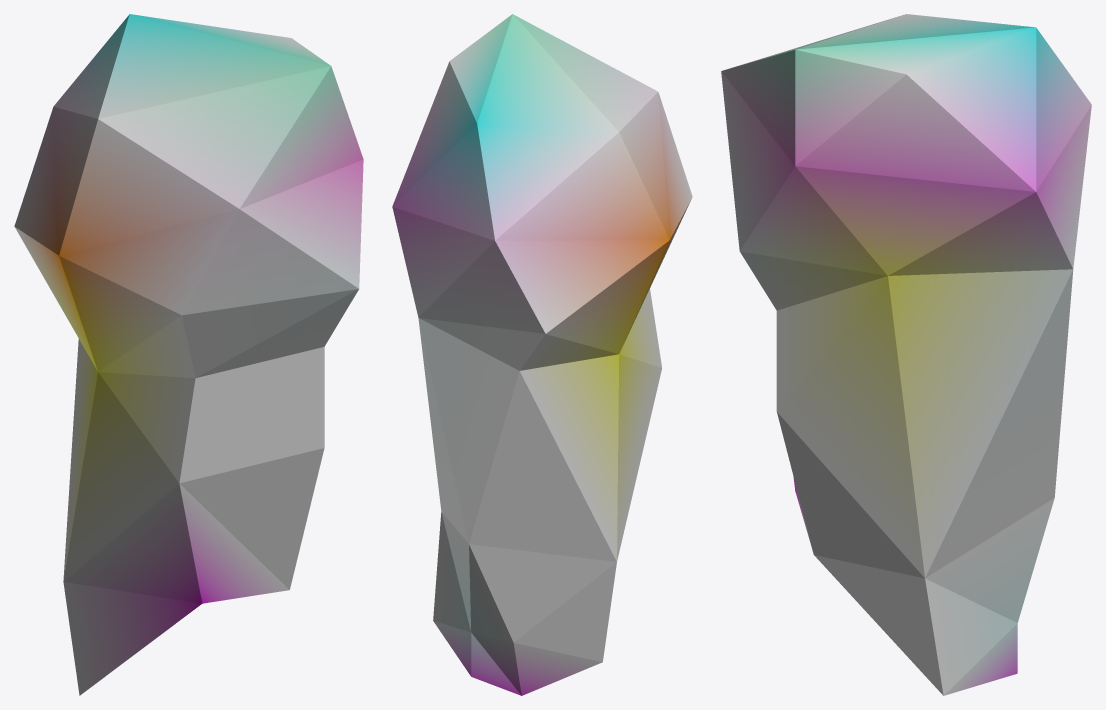
The picture shows the model from 3 angles, left to right: view 1: azimuth 30°, elevation 25°; view 2: azimuth 150°, elevation 25°; view 3: azimuth 270°, elevation 25°; orthographic projection. The views are drawn at different scales.
Visible parts, largest first — view 1: model_1116; view 2: model_1116; view 3: model_1116.
Boxes of the visible parts, x1=… form: model_1116: x1=14, y1=14, x2=363, y2=695; model_1116: x1=392, y1=14, x2=692, y2=695; model_1116: x1=721, y1=14, x2=1091, y2=695.
Size of the model in its own units: 16 by 40 by 20.
